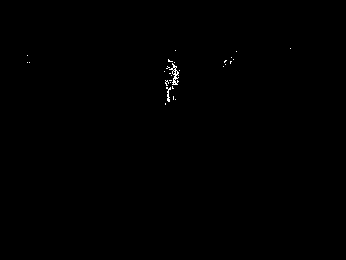person: (161, 56, 181, 106)
